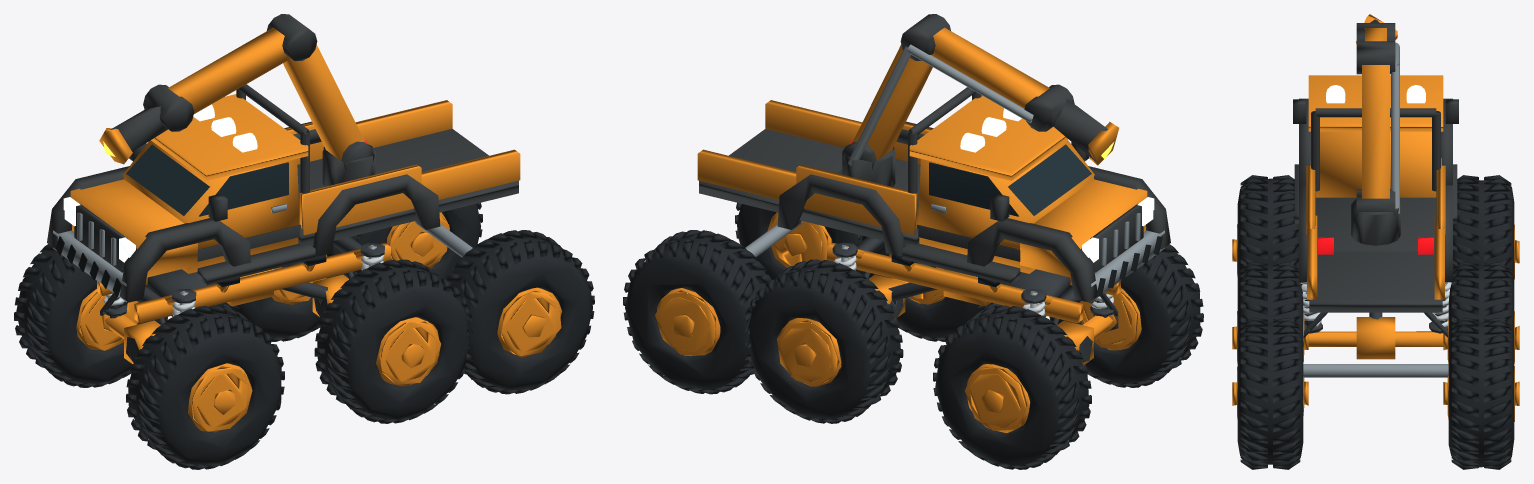
File: BeamBuilder_LOD2.fbx
The picture shows the model from 3 angles, left to right: view 1: azimuth 30°, elevation 25°; view 2: azimuth 150°, elevation 25°; view 3: azimuth 270°, elevation 25°; orthographic projection. The views are drawn at different scales.
Visible parts, largest first — view 1: BeamBuilder_LOD2_sprung_body_Geometry, BeamBuilder_LOD2_FL_Spin_Geometry, BeamBuilder_LOD2_RL_Spin_Geometry, BeamBuilder_LOD2_RL_Spin.001_Geometry, BeamBuilder_LOD2_FR_Spin_Geometry, BeamBuilder_LOD2_RR_Spin.001_Geometry, BeamBuilder_LOD2_RR_Spin_Geometry, BeamBuilder_LOD2_ToolPivot_Geometry, BeamBuilder_LOD2_FRONT_axle_Geometry, BeamBuilder_LOD2_Root_Geometry, BeamBuilder_LOD2_REAR_axle_Geometry; view 2: BeamBuilder_LOD2_sprung_body_Geometry, BeamBuilder_LOD2_FR_Spin_Geometry, BeamBuilder_LOD2_RR_Spin_Geometry, BeamBuilder_LOD2_RR_Spin.001_Geometry, BeamBuilder_LOD2_FL_Spin_Geometry, BeamBuilder_LOD2_RL_Spin.001_Geometry, BeamBuilder_LOD2_RL_Spin_Geometry, BeamBuilder_LOD2_ToolPivot_Geometry, BeamBuilder_LOD2_FRONT_axle_Geometry, BeamBuilder_LOD2_Root_Geometry, BeamBuilder_LOD2_REAR_axle_Geometry; view 3: BeamBuilder_LOD2_sprung_body_Geometry, BeamBuilder_LOD2_RR_Spin.001_Geometry, BeamBuilder_LOD2_RL_Spin.001_Geometry, BeamBuilder_LOD2_FL_Spin_Geometry, BeamBuilder_LOD2_FR_Spin_Geometry, BeamBuilder_LOD2_RL_Spin_Geometry, BeamBuilder_LOD2_RR_Spin_Geometry, BeamBuilder_LOD2_REAR_axle_Geometry, BeamBuilder_LOD2_REAR_shock_-1_Geometry, BeamBuilder_LOD2_REAR_shock_1_Geometry, BeamBuilder_LOD2_Root_Geometry.
Part boxes in pixels (x1,y1,x2,y2): BeamBuilder_LOD2_sprung_body_Geometry: (47,14,520,323); BeamBuilder_LOD2_FL_Spin_Geometry: (126,305,284,469); BeamBuilder_LOD2_RL_Spin_Geometry: (314,259,472,423); BeamBuilder_LOD2_RL_Spin.001_Geometry: (446,230,594,394); BeamBuilder_LOD2_FR_Spin_Geometry: (14,244,167,387); BeamBuilder_LOD2_RR_Spin.001_Geometry: (355,202,482,279); BeamBuilder_LOD2_RR_Spin_Geometry: (220,235,358,341); BeamBuilder_LOD2_ToolPivot_Geometry: (99,106,167,164); BeamBuilder_LOD2_FRONT_axle_Geometry: (105,315,160,363); BeamBuilder_LOD2_Root_Geometry: (100,271,354,324); BeamBuilder_LOD2_REAR_axle_Geometry: (309,274,348,317); BeamBuilder_LOD2_sprung_body_Geometry: (697,14,1170,323); BeamBuilder_LOD2_FR_Spin_Geometry: (933,305,1091,469); BeamBuilder_LOD2_RR_Spin_Geometry: (745,259,903,423); BeamBuilder_LOD2_RR_Spin.001_Geometry: (623,230,771,394); BeamBuilder_LOD2_FL_Spin_Geometry: (1049,244,1203,387); BeamBuilder_LOD2_RL_Spin.001_Geometry: (735,202,863,279); BeamBuilder_LOD2_RL_Spin_Geometry: (858,235,998,341); BeamBuilder_LOD2_ToolPivot_Geometry: (1053,99,1119,165); BeamBuilder_LOD2_FRONT_axle_Geometry: (1057,314,1118,365); BeamBuilder_LOD2_Root_Geometry: (864,271,1118,325); BeamBuilder_LOD2_REAR_axle_Geometry: (869,274,909,319); BeamBuilder_LOD2_sprung_body_Geometry: (1293,23,1458,377); BeamBuilder_LOD2_RR_Spin.001_Geometry: (1443,317,1519,469); BeamBuilder_LOD2_RL_Spin.001_Geometry: (1232,317,1308,469); BeamBuilder_LOD2_FL_Spin_Geometry: (1232,175,1298,288); BeamBuilder_LOD2_FR_Spin_Geometry: (1453,175,1519,287); BeamBuilder_LOD2_RL_Spin_Geometry: (1232,262,1308,363); BeamBuilder_LOD2_RR_Spin_Geometry: (1443,262,1519,363); BeamBuilder_LOD2_REAR_axle_Geometry: (1303,317,1443,359); BeamBuilder_LOD2_REAR_shock_-1_Geometry: (1298,263,1322,333); BeamBuilder_LOD2_REAR_shock_1_Geometry: (1429,265,1453,333); BeamBuilder_LOD2_Root_Geometry: (1303,312,1448,338).
Size of the model in its own units: 706 by 545 by 414.
